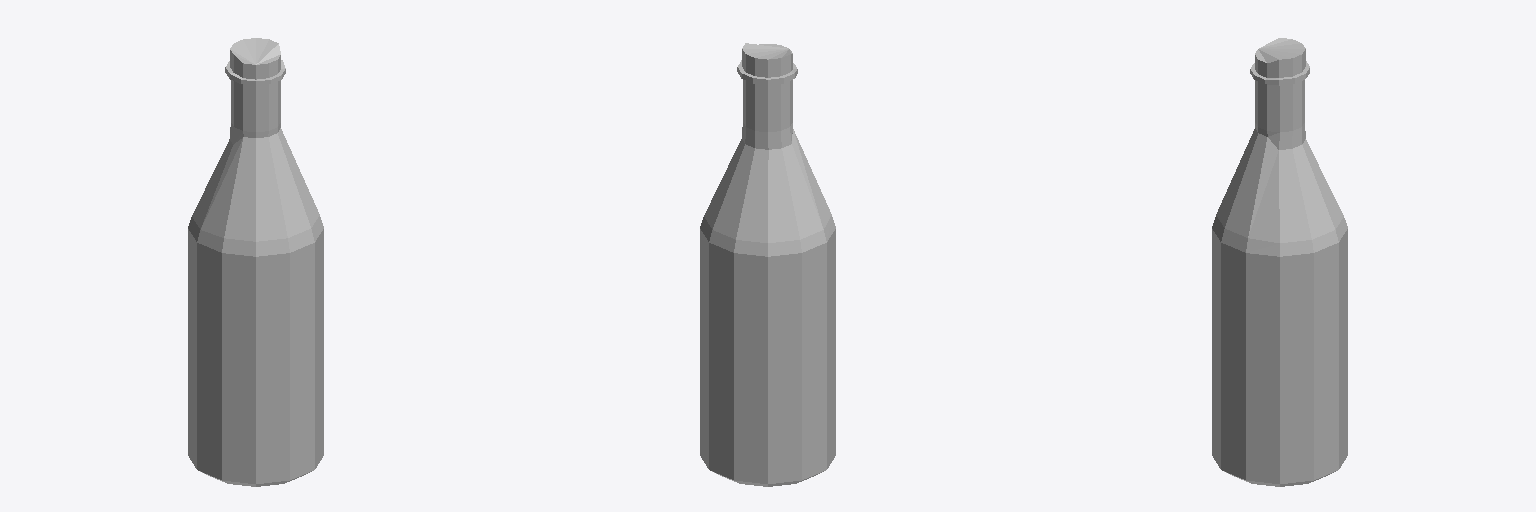
The model's file is Trash _3.obj.
The picture shows the model from 3 angles: view 1: azimuth 30°, elevation 25°; view 2: azimuth 150°, elevation 25°; view 3: azimuth 270°, elevation 25°; orthographic projection.
Parts seen in each view (by area): view 1: Cylinder.002; view 2: Cylinder.002; view 3: Cylinder.002.
Part boxes in pixels (left/top/right/bottom): Cylinder.002: left=188, top=38, right=323, bottom=486; Cylinder.002: left=700, top=43, right=835, bottom=486; Cylinder.002: left=1212, top=38, right=1347, bottom=486.
Bounding box in the file's own units: 0.2476 × 0.832 × 0.2476.